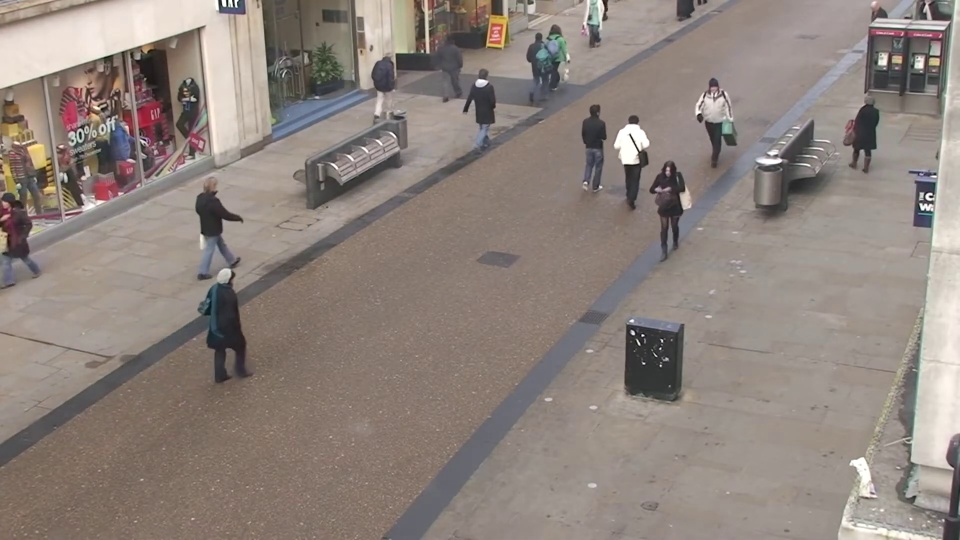pedestrian: (219, 259, 271, 391), (204, 168, 247, 276), (648, 157, 684, 265), (843, 91, 882, 183), (621, 105, 651, 198), (584, 98, 614, 189), (697, 79, 727, 165), (476, 62, 504, 142), (378, 44, 405, 119), (439, 31, 465, 102), (530, 28, 554, 99), (546, 21, 570, 91)
